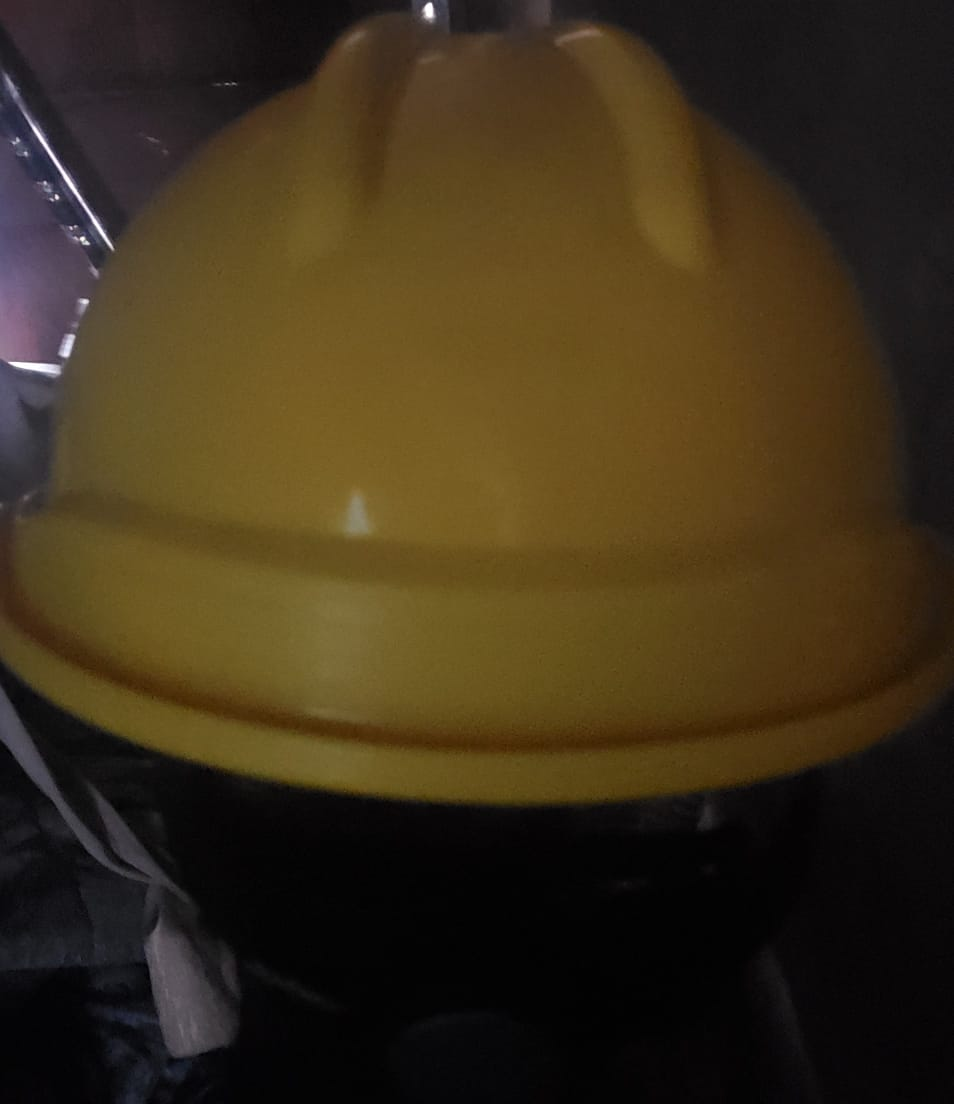helment: (15, 25, 954, 1052)
